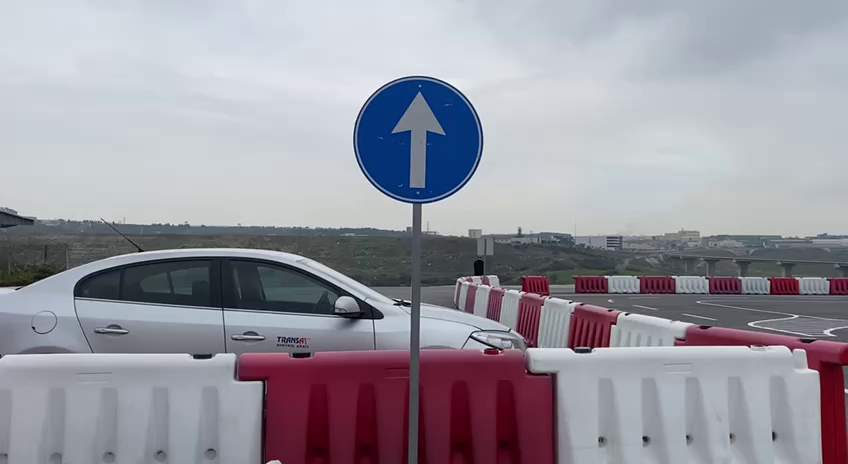forward: (349, 71, 484, 207)
